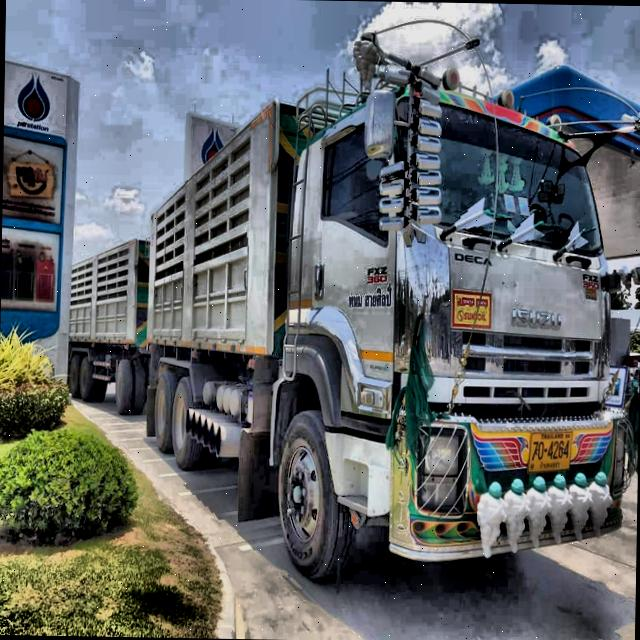trailer: (46, 32, 640, 590)
